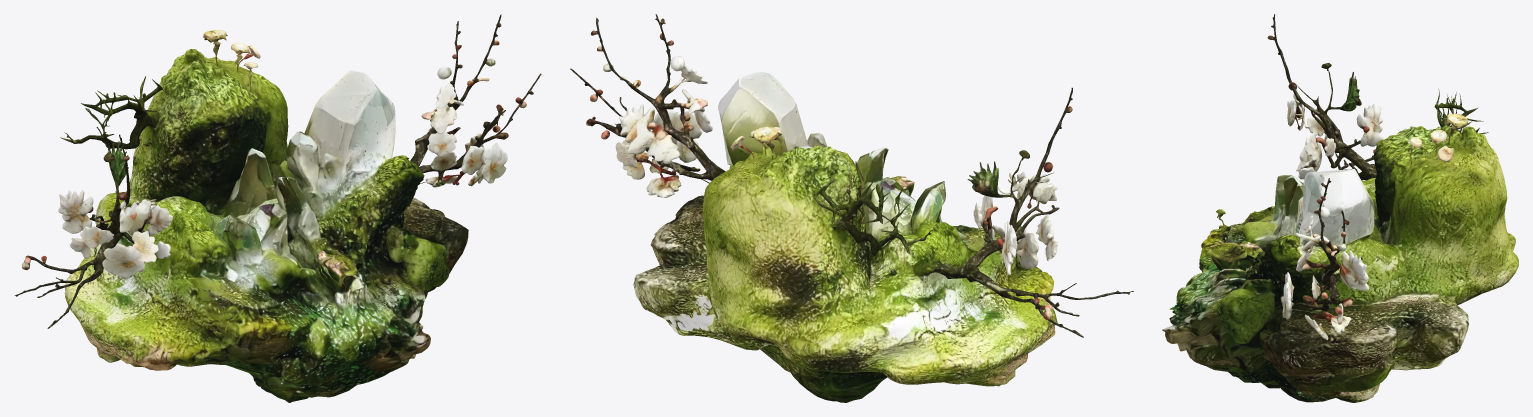
Rendered from hero-orb.glb.
3 views of the same model, side by side, from view 1: azimuth 30°, elevation 25°; view 2: azimuth 150°, elevation 25°; view 3: azimuth 270°, elevation 25° (orthographic). The views are drawn at different scales.
Parts seen in each view (by area): view 1: model; view 2: model; view 3: model.
Part boxes in pixels (x1,y1,x2,y2): model: (14,14,541,402); model: (570,14,1133,402); model: (1162,14,1518,402).
Size of the model in its own units: 1.9 by 1.1 by 1.19.
1 material, 1 textured.
